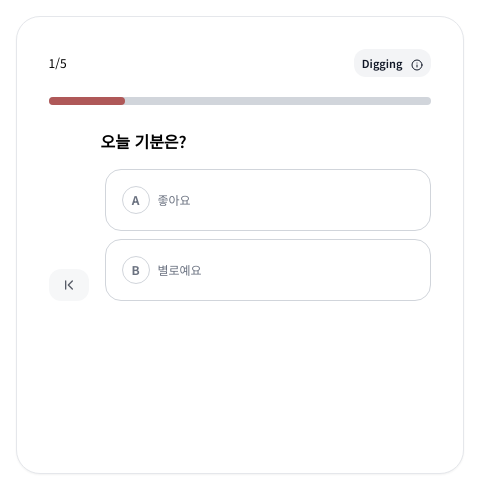
Test case: DiggingFlow컨포넌트 UI Test › DiggingFlow 답을 클릭 시 다음문제로 이동여부 테스트
The image size is (481, 491).
Click the text "좋아요".
click(174, 200)  # box [158,191,191,208]
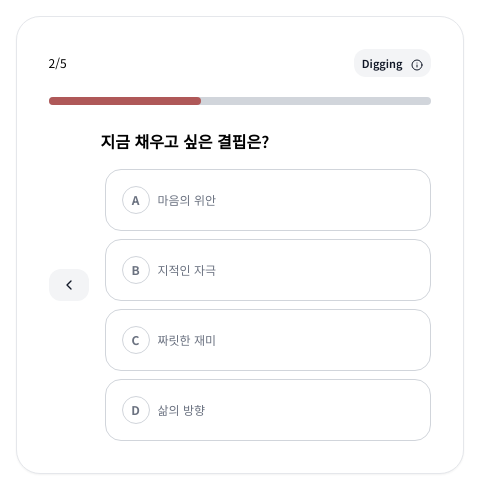
Result: the text "2" is shown at [48,55,55,71]
Result: the heading "지금 채우고 싶은 결핍은?" is shown at [100,129,269,153]
